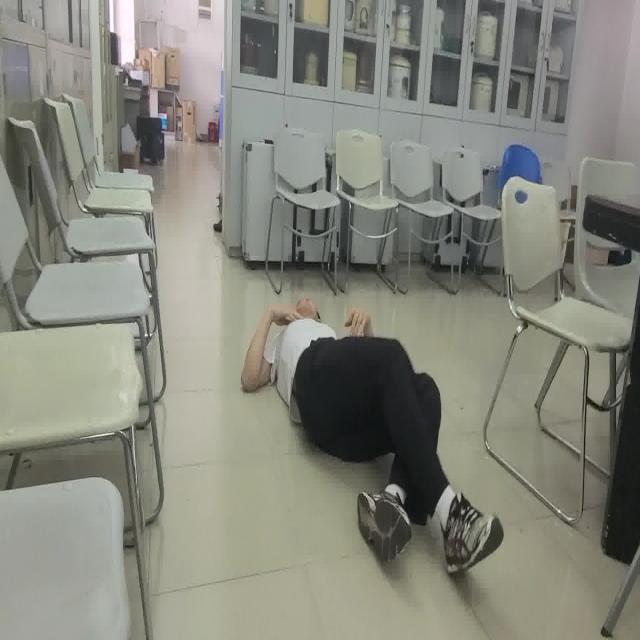Fall-Detected: (239, 293, 505, 581)
